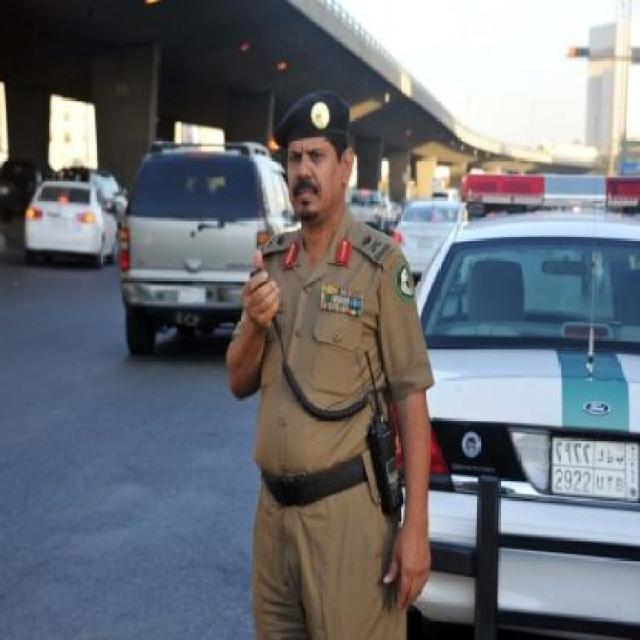license_plate: (550, 428, 638, 507)
